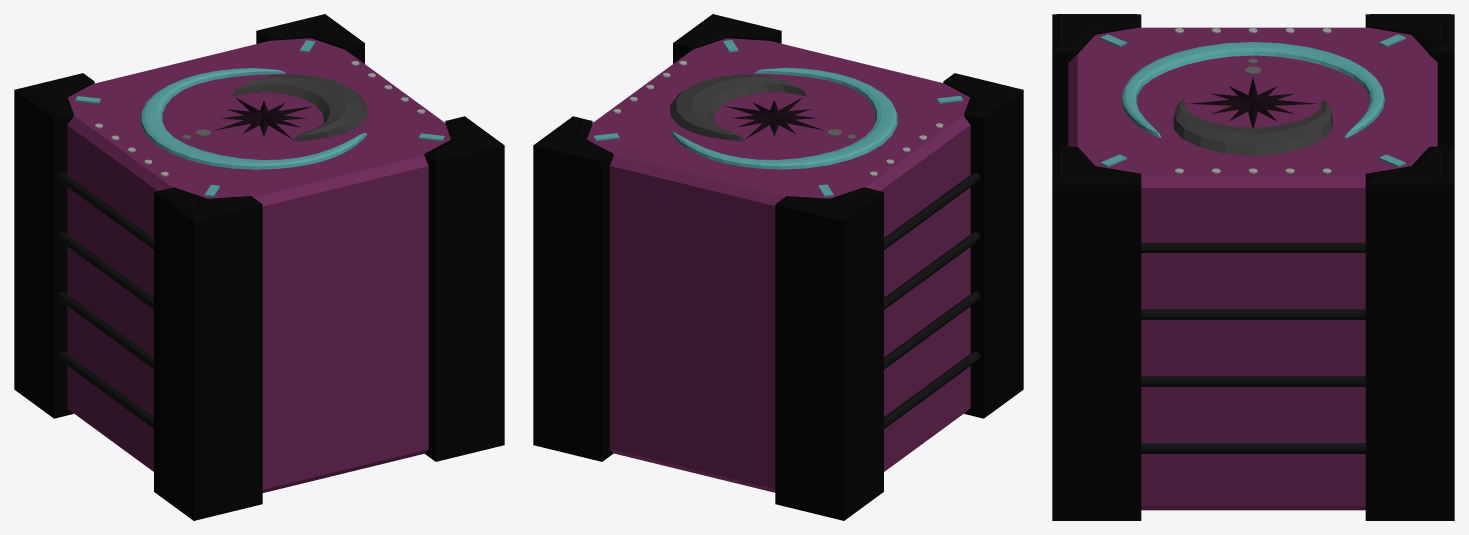
The model's file is st2_ground_run.fbx.
3 renders of one model, left to right at view 1: azimuth 30°, elevation 25°; view 2: azimuth 150°, elevation 25°; view 3: azimuth 270°, elevation 25°, orthographic. The views are drawn at different scales.
Visible parts, largest first — view 1: stage2_floor_gimmik_floor2; view 2: stage2_floor_gimmik_floor2; view 3: stage2_floor_gimmik_floor2.
Boxes of the visible parts, x1=… form: stage2_floor_gimmik_floor2: x1=14, y1=14, x2=504, y2=520; stage2_floor_gimmik_floor2: x1=533, y1=14, x2=1023, y2=520; stage2_floor_gimmik_floor2: x1=1052, y1=14, x2=1454, y2=520.
Size of the model in its own units: 218 by 206 by 218.
